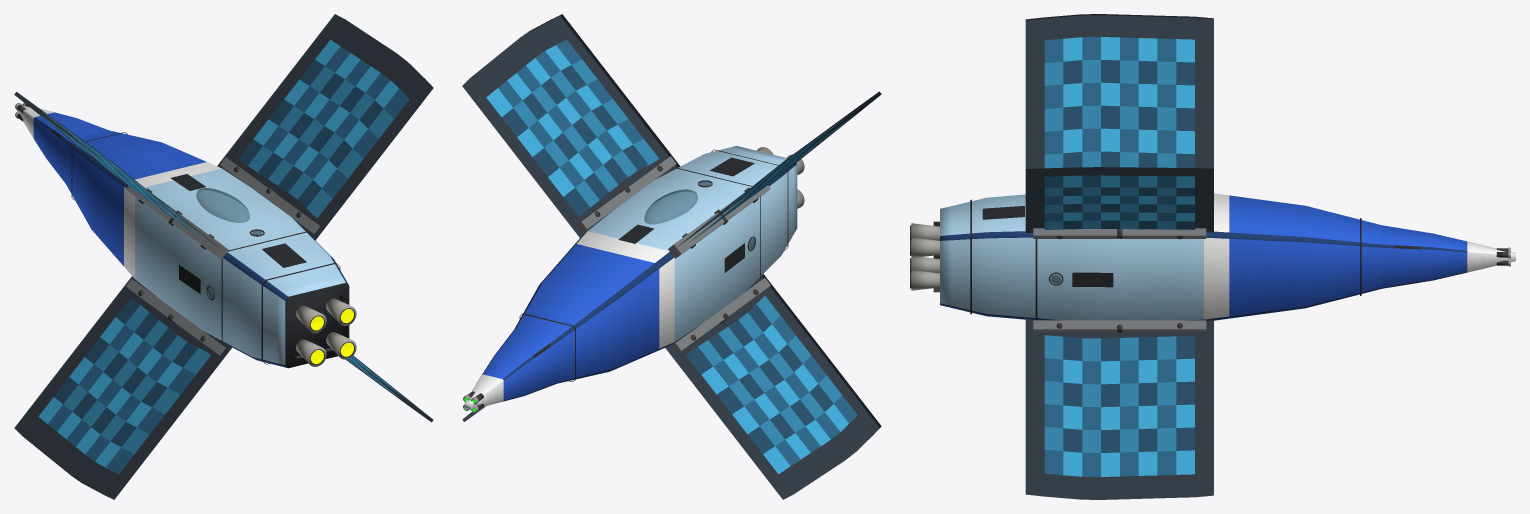
File: Ship_Crosspanel_19.glb
The picture shows the model from 3 angles, left to right: view 1: azimuth 30°, elevation 25°; view 2: azimuth 150°, elevation 25°; view 3: azimuth 270°, elevation 25°; orthographic projection. The views are drawn at different scales.
Visible parts, largest first — view 1: Fuselage_SquareBody, SolarPanelWing_TopRightRidge_RectangularPhotovoltaicGrid, SolarPanelWing_LowerLeftRidge_RectangularPhotovoltaicGrid, Nose_SquareTaperedForwardSection, SolarPanelWing_TopLeftRidge_RectangularPhotovoltaicGrid, Canopy_DorsalLowSquareBubble, SolarPanelWing_LowerLeftRidge_RootHingeClamp, SolarPanelWing_TopRightRidge_RootHingeClamp, SolarPanelWing_TopLeftRidge_RootHingeClamp, SolarPanelWing_LowerRightRidge_RectangularPhotovoltaicGrid, EngineEmitter, HullAccessPanel_TopAft; view 2: Fuselage_SquareBody, SolarPanelWing_TopRightRidge_RectangularPhotovoltaicGrid, SolarPanelWing_LowerLeftRidge_RectangularPhotovoltaicGrid, Nose_SquareTaperedForwardSection, SolarPanelWing_TopLeftRidge_RectangularPhotovoltaicGrid, Canopy_DorsalLowSquareBubble, SolarPanelWing_LowerLeftRidge_RootHingeClamp, SolarPanelWing_TopRightRidge_RootHingeClamp, SolarPanelWing_TopLeftRidge_RootHingeClamp, HullAccessPanel_TopAft; view 3: Fuselage_SquareBody, SolarPanelWing_LowerRightRidge_RectangularPhotovoltaicGrid, SolarPanelWing_TopLeftRidge_RectangularPhotovoltaicGrid, SolarPanelWing_TopRightRidge_RectangularPhotovoltaicGrid, Nose_SquareTaperedForwardSection, SolarPanelWing_LowerRightRidge_RootHingeClamp, SolarPanelWing_TopRightRidge_RootHingeClamp.
Part boxes in pixels (x1,y1,x2,y2): Fuselage_SquareBody: (66, 130, 349, 368); SolarPanelWing_TopRightRidge_RectangularPhotovoltaicGrid: (217, 14, 433, 240); SolarPanelWing_LowerLeftRidge_RectangularPhotovoltaicGrid: (14, 276, 232, 499); Nose_SquareTaperedForwardSection: (16, 104, 108, 183); SolarPanelWing_TopLeftRidge_RectangularPhotovoltaicGrid: (14, 92, 228, 255); Canopy_DorsalLowSquareBubble: (196, 188, 249, 222); SolarPanelWing_LowerLeftRidge_RootHingeClamp: (126, 279, 225, 355); SolarPanelWing_TopRightRidge_RootHingeClamp: (220, 157, 319, 233); SolarPanelWing_TopLeftRidge_RootHingeClamp: (126, 186, 228, 259); SolarPanelWing_LowerRightRidge_RectangularPhotovoltaicGrid: (346, 355, 433, 422); EngineEmitter: (310, 309, 353, 363); HullAccessPanel_TopAft: (262, 243, 306, 267); Fuselage_SquareBody: (514, 146, 797, 383); SolarPanelWing_TopRightRidge_RectangularPhotovoltaicGrid: (462, 14, 680, 238); SolarPanelWing_LowerLeftRidge_RectangularPhotovoltaicGrid: (665, 274, 881, 499); Nose_SquareTaperedForwardSection: (464, 328, 559, 409); SolarPanelWing_TopLeftRidge_RectangularPhotovoltaicGrid: (669, 91, 881, 253); Canopy_DorsalLowSquareBubble: (644, 189, 697, 224); SolarPanelWing_LowerLeftRidge_RootHingeClamp: (671, 278, 770, 354); SolarPanelWing_TopRightRidge_RootHingeClamp: (576, 156, 676, 232); SolarPanelWing_TopLeftRidge_RootHingeClamp: (668, 185, 770, 258); HullAccessPanel_TopAft: (710, 157, 754, 176); Fuselage_SquareBody: (940, 193, 1381, 321); SolarPanelWing_LowerRightRidge_RectangularPhotovoltaicGrid: (1025, 319, 1213, 499); SolarPanelWing_TopLeftRidge_RectangularPhotovoltaicGrid: (1025, 14, 1213, 168); SolarPanelWing_TopRightRidge_RectangularPhotovoltaicGrid: (1025, 167, 1213, 232); Nose_SquareTaperedForwardSection: (1382, 225, 1515, 288); SolarPanelWing_LowerRightRidge_RootHingeClamp: (1033, 320, 1206, 331); SolarPanelWing_TopRightRidge_RootHingeClamp: (1033, 228, 1206, 238).
Bounding box in the file's own units: 5.24 × 5.24 × 8.64.
